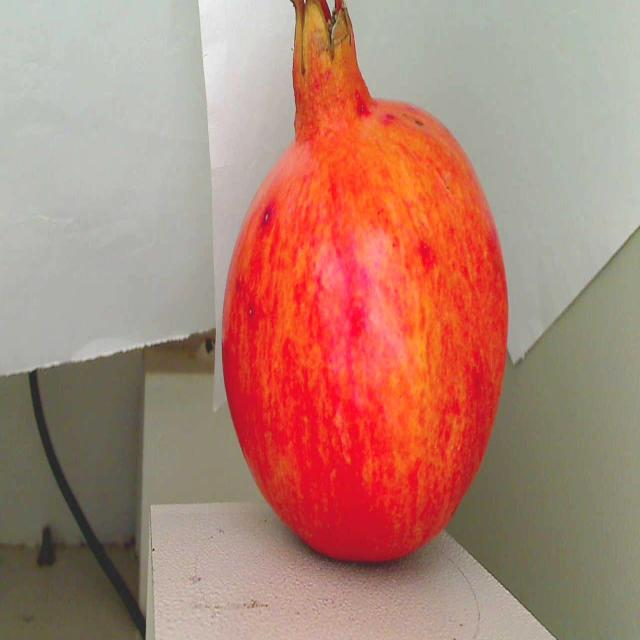pomegranate: (207, 0, 518, 591)
